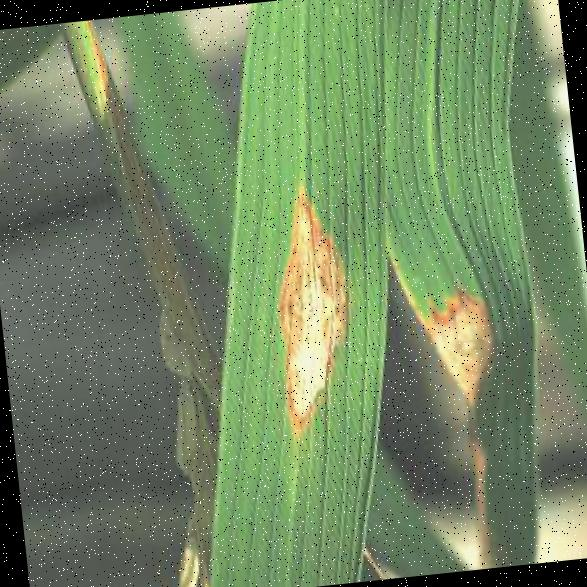Leaf_smut: (226, 165, 371, 460), (398, 278, 536, 425)
